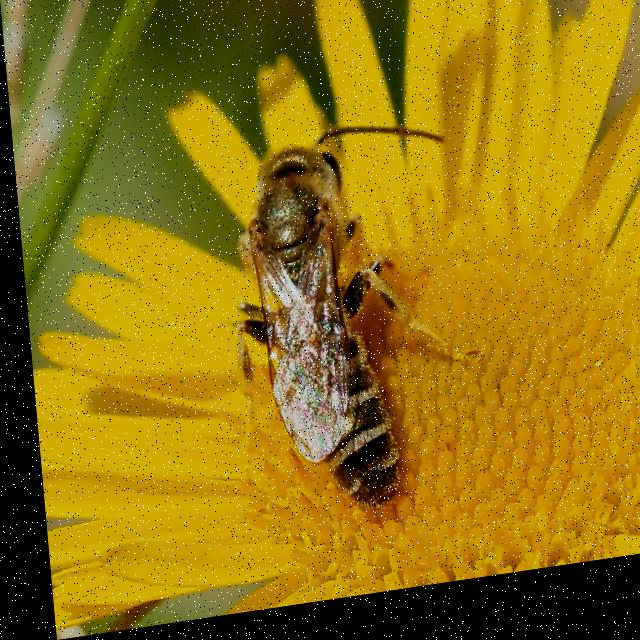Lasioglossum: (189, 107, 476, 557)
